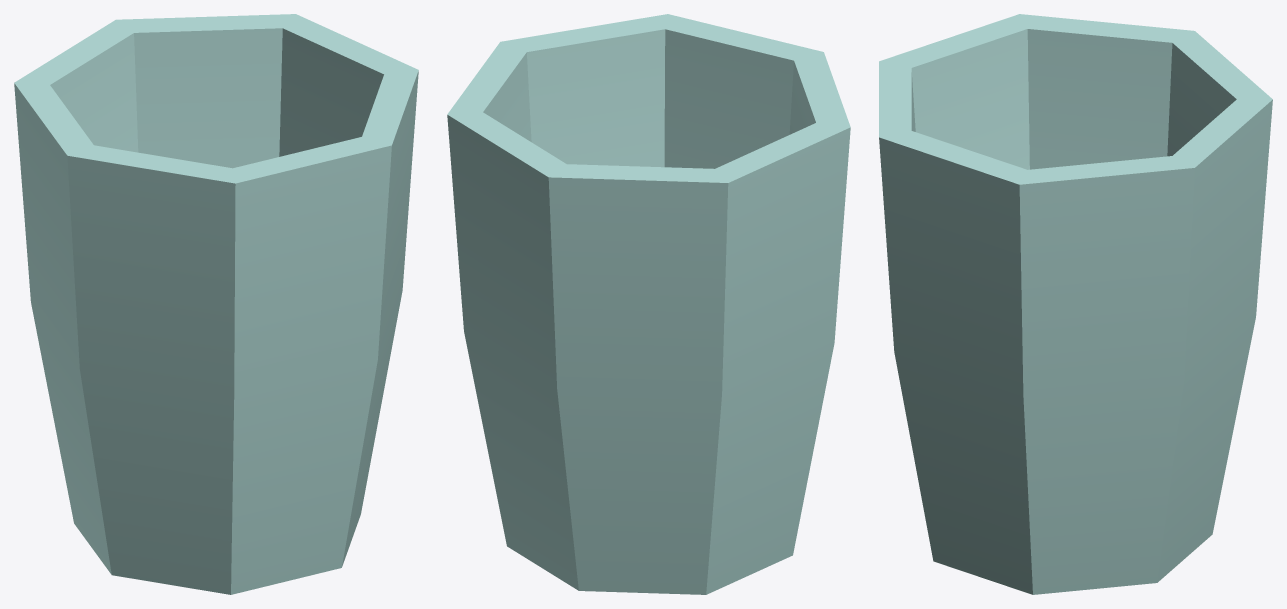
File: VASO.fbx
3 views of the same model, side by side, from view 1: azimuth 30°, elevation 25°; view 2: azimuth 150°, elevation 25°; view 3: azimuth 270°, elevation 25° (orthographic).
Visible parts, largest first — view 1: Vaso1; view 2: Vaso1; view 3: Vaso1.
Boxes of the visible parts, x1,y1,x2,y2 form: Vaso1: (14, 14, 418, 594); Vaso1: (447, 14, 850, 594); Vaso1: (879, 14, 1272, 594).
Size of the model in its own units: 13.2 by 15.68 by 12.87.
